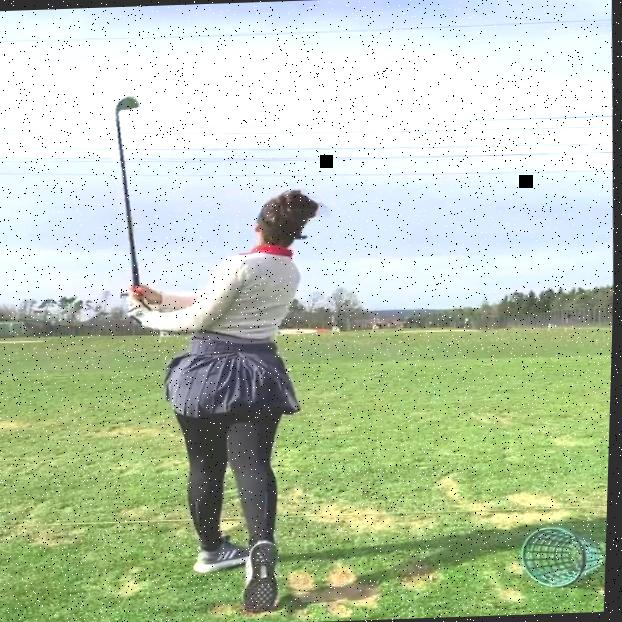ClubHead: (115, 94, 141, 112)
